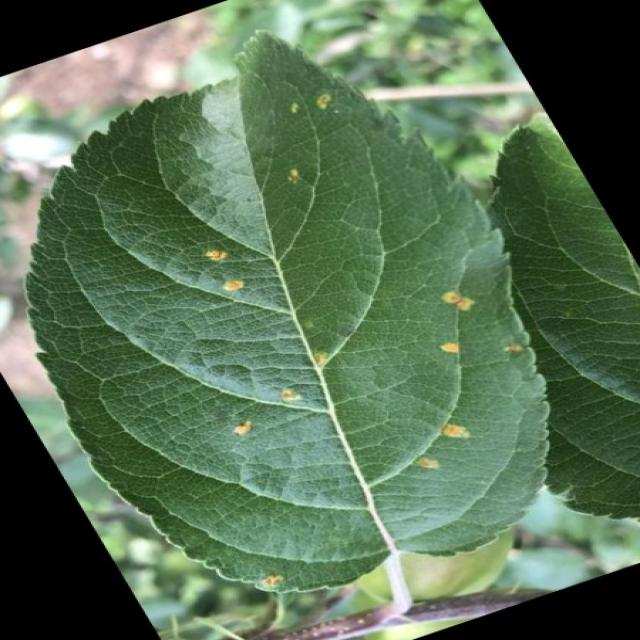Gymnosporangium_Rusts: (22, 28, 554, 599)
